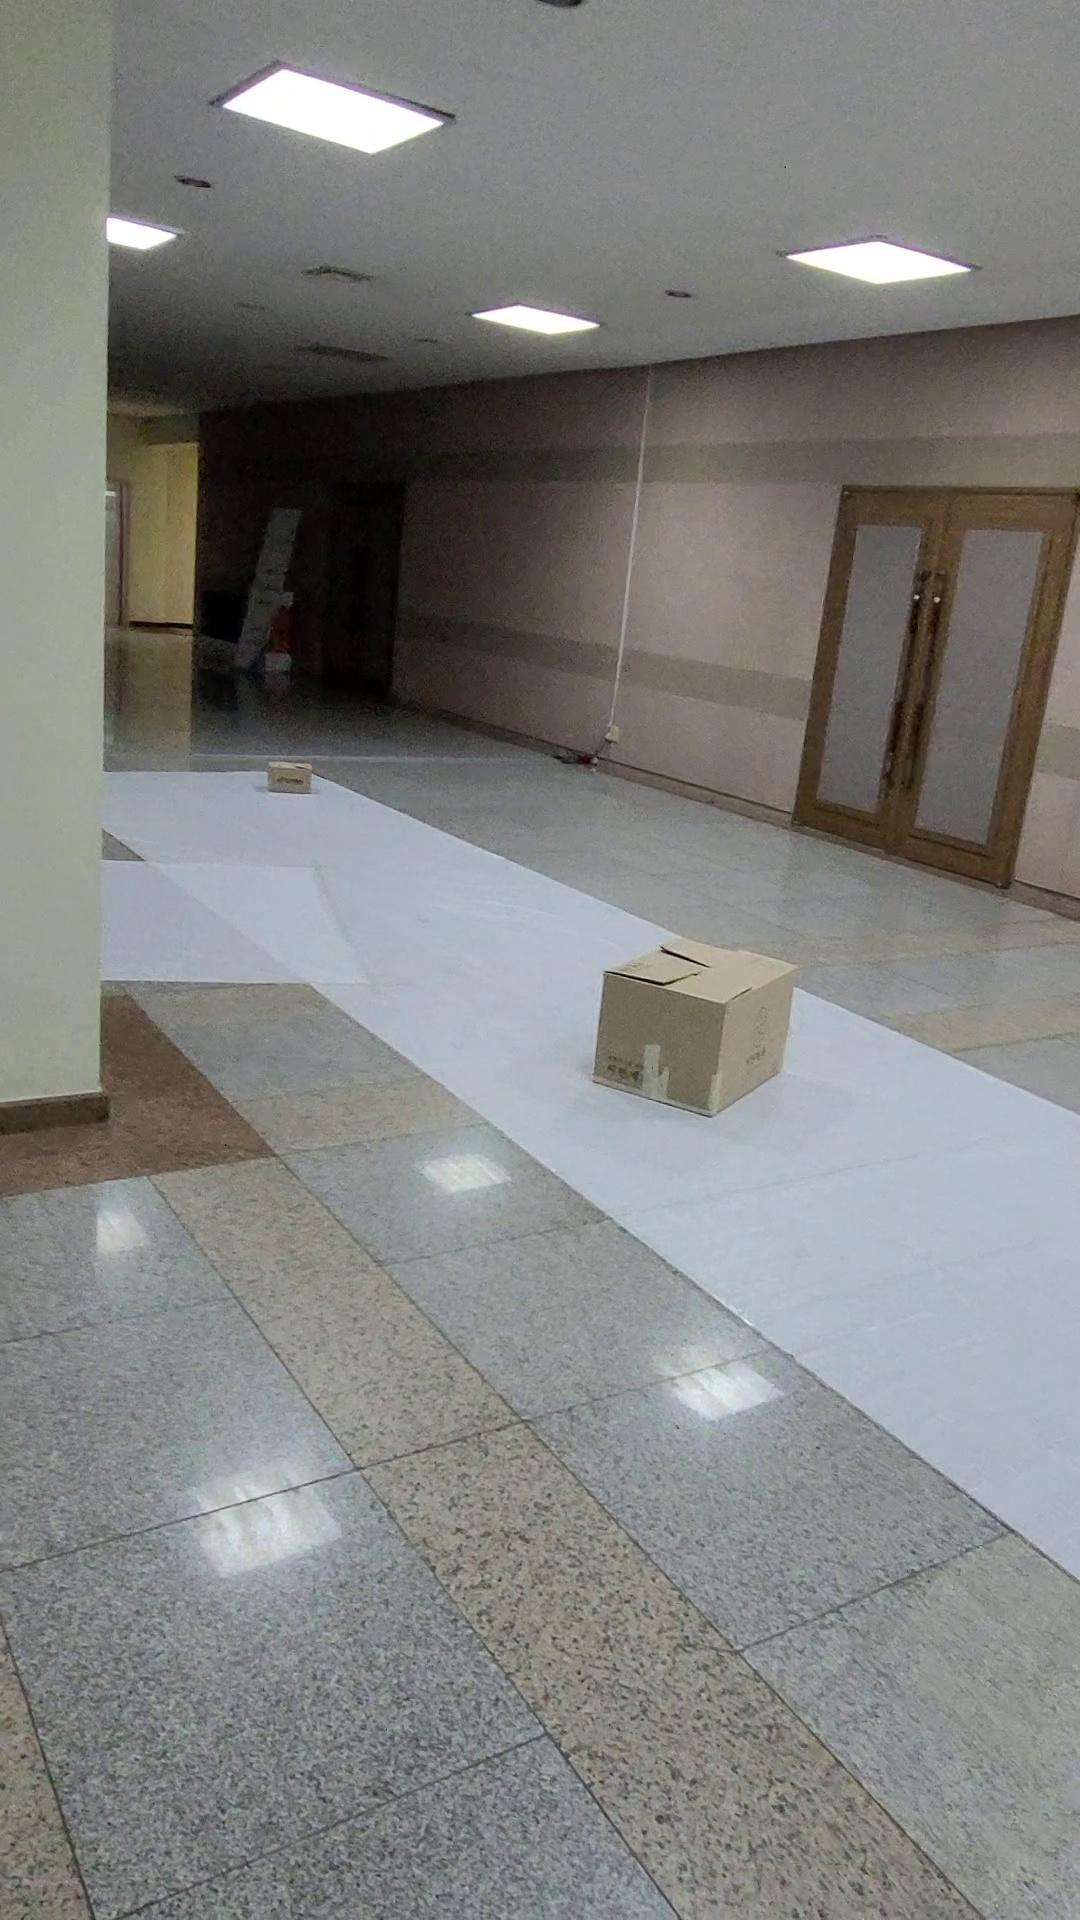Box: (553, 915, 832, 1137), (253, 740, 340, 832)
